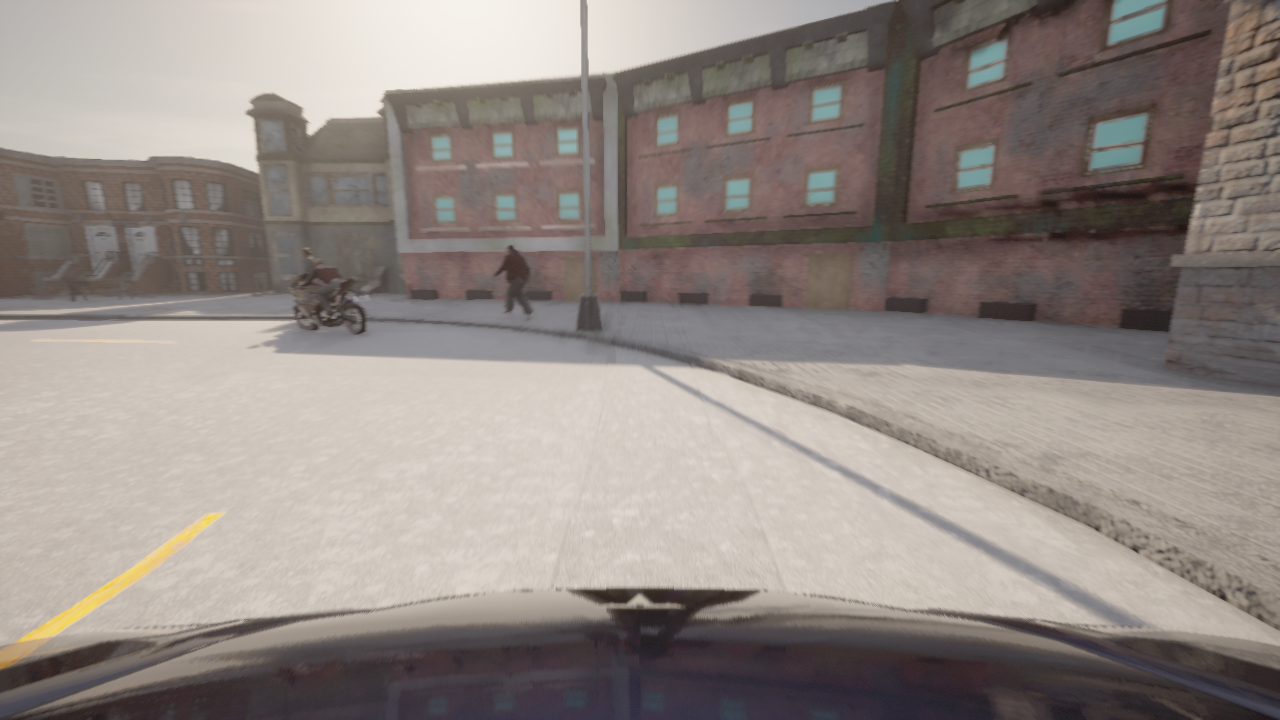cyclist: (0, 588, 1279, 719), (283, 273, 371, 334)
pedestrian: (492, 244, 533, 320), (301, 248, 317, 279)
